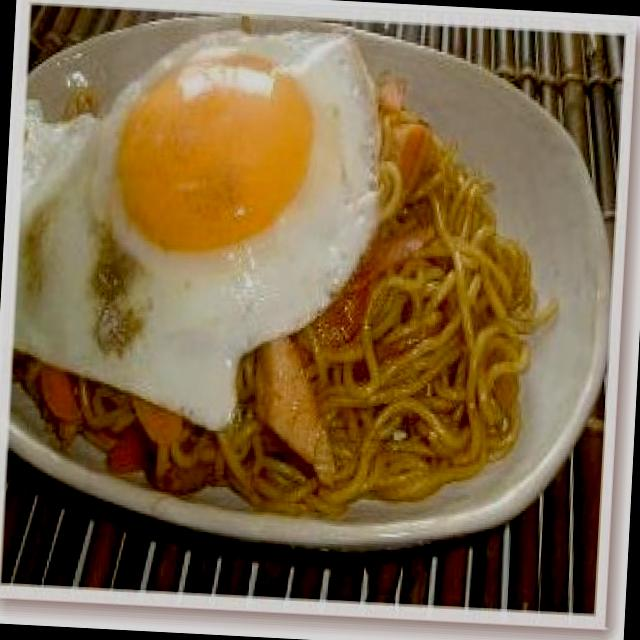Egg: (14, 17, 376, 378)
